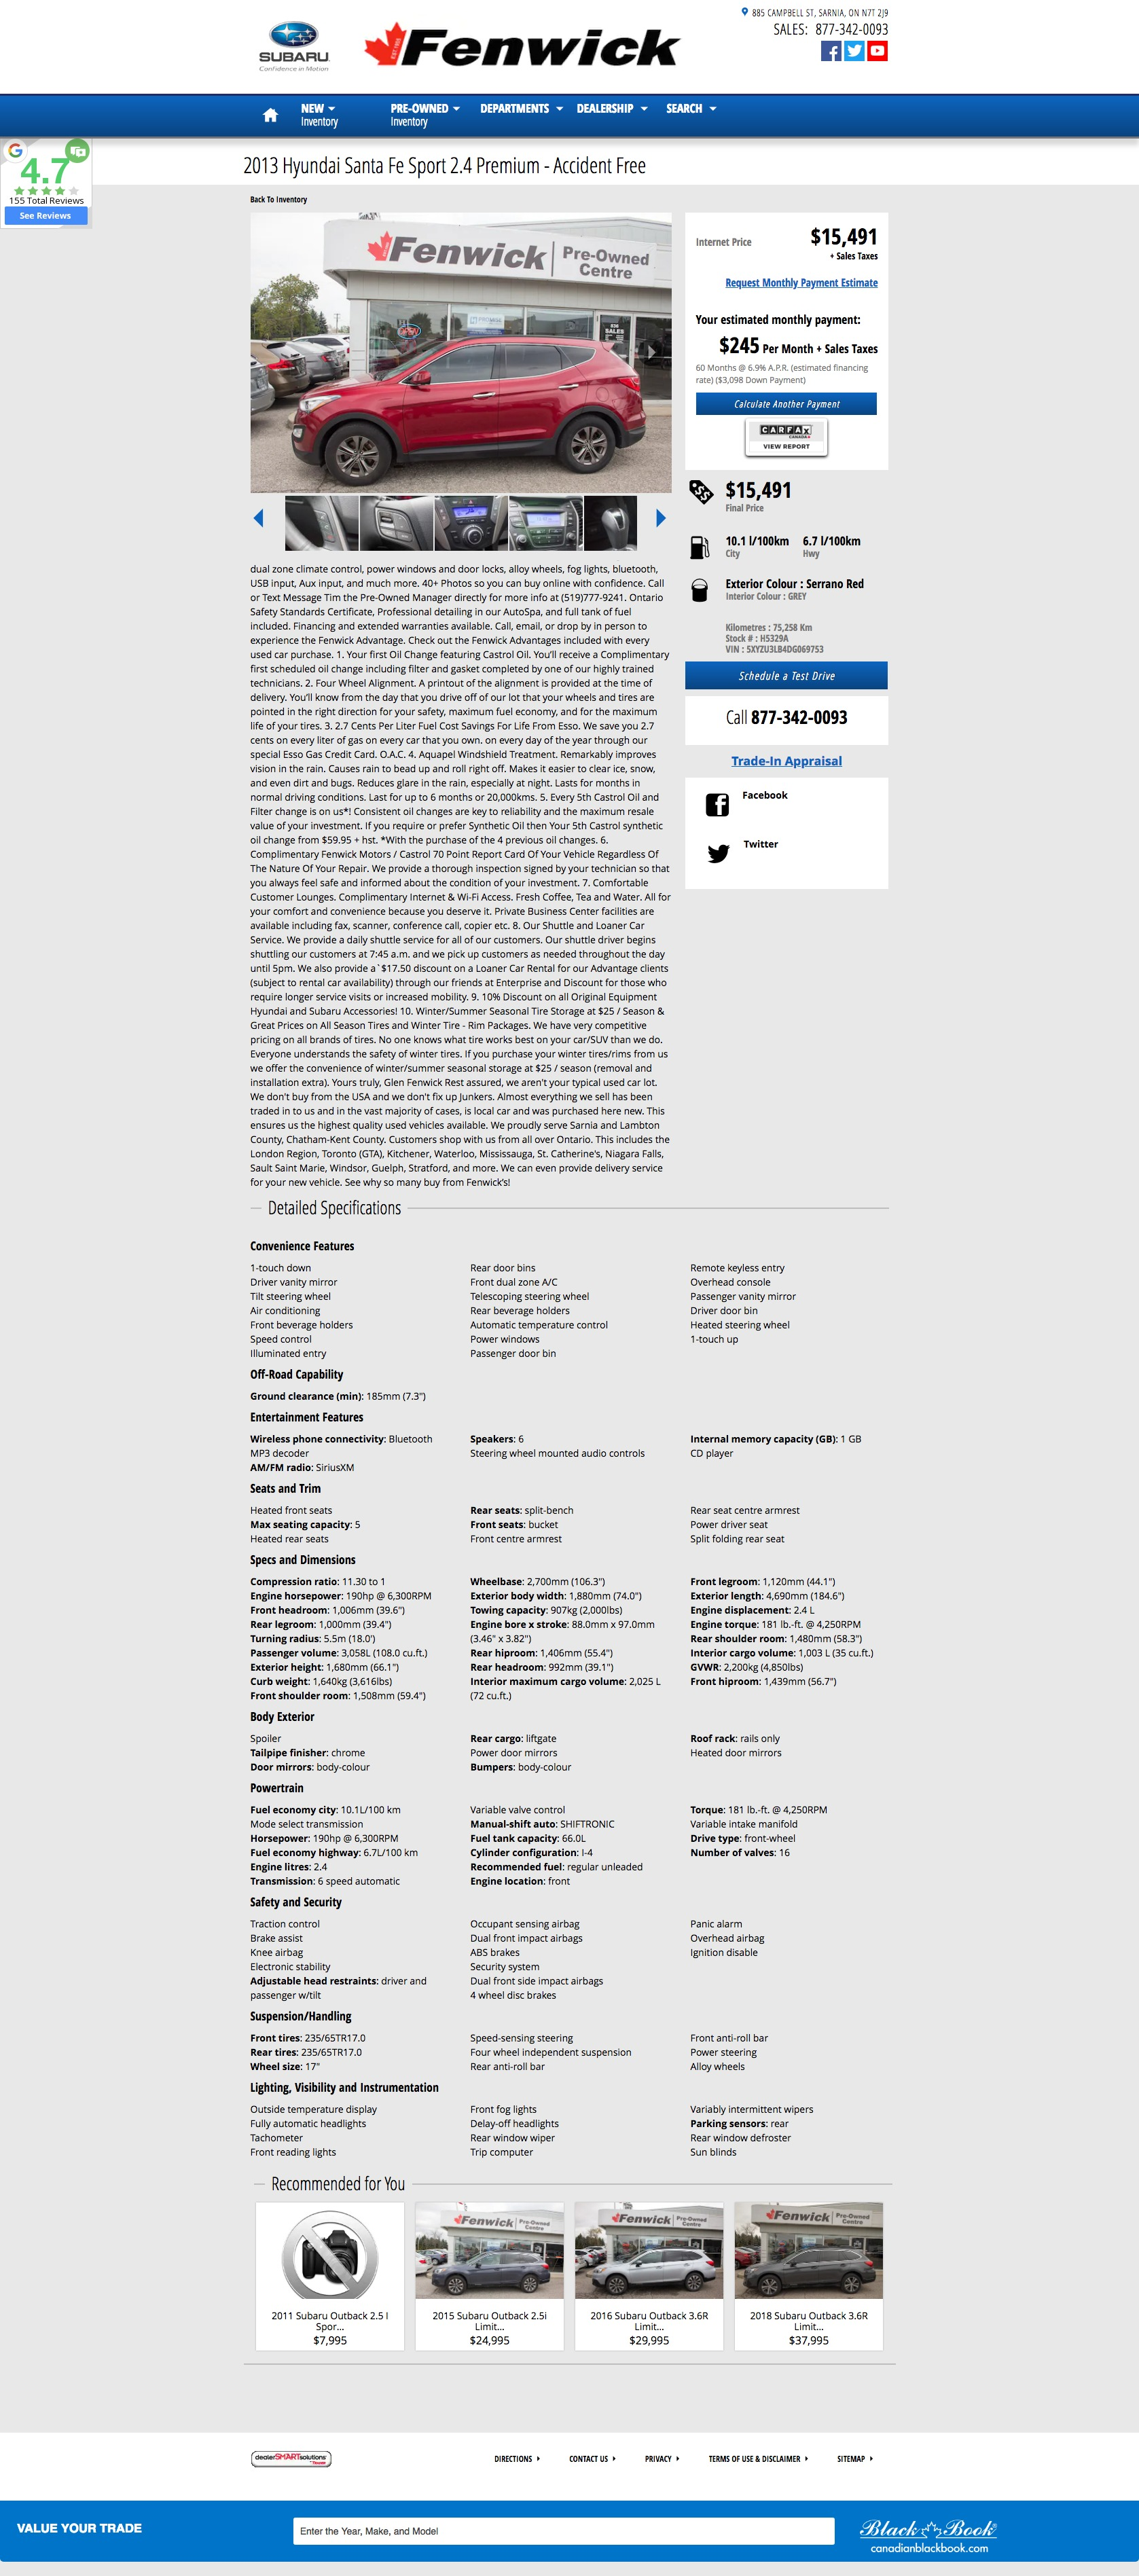car: (656, 509, 666, 529)
